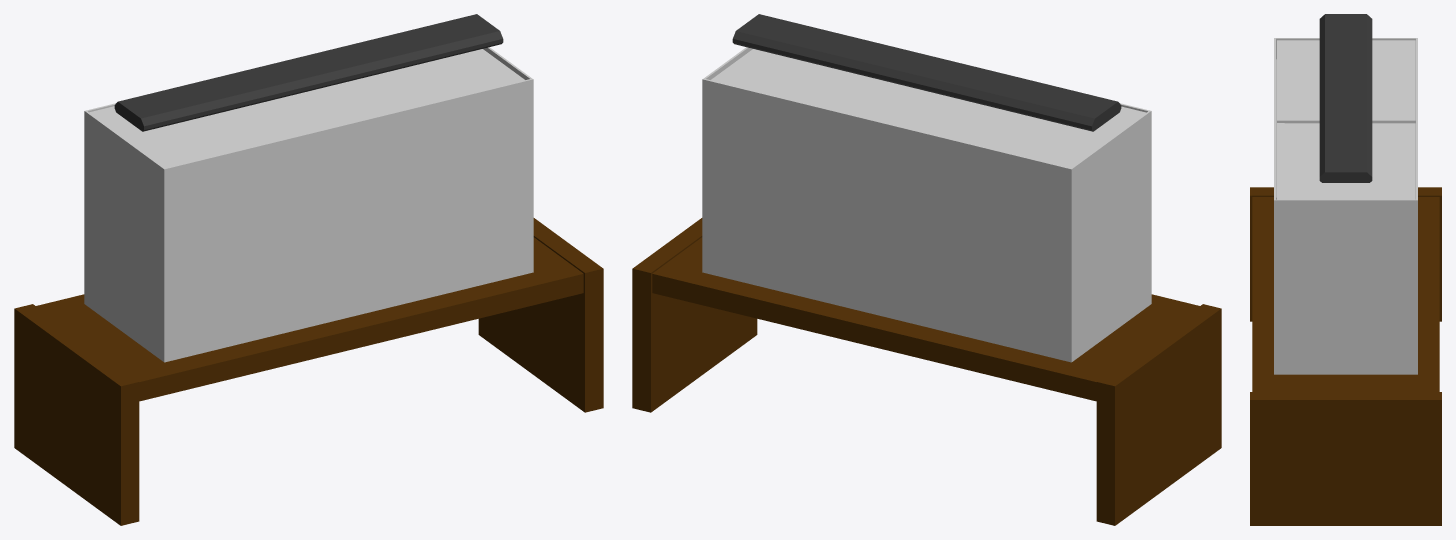
File: FishTank.glb
3 renders of one model, left to right at view 1: azimuth 30°, elevation 25°; view 2: azimuth 150°, elevation 25°; view 3: azimuth 270°, elevation 25°, orthographic. The views are drawn at different scales.
Parts seen in each view (by area): view 1: FishTankMerged; view 2: FishTankMerged; view 3: FishTankMerged.
Boxes of the visible parts, x1,y1,x2,y2 form: FishTankMerged: [14, 14, 603, 525]; FishTankMerged: [632, 14, 1221, 525]; FishTankMerged: [1250, 14, 1441, 525].
Size of the model in its own units: 1.05 by 0.7495 by 0.3993.
